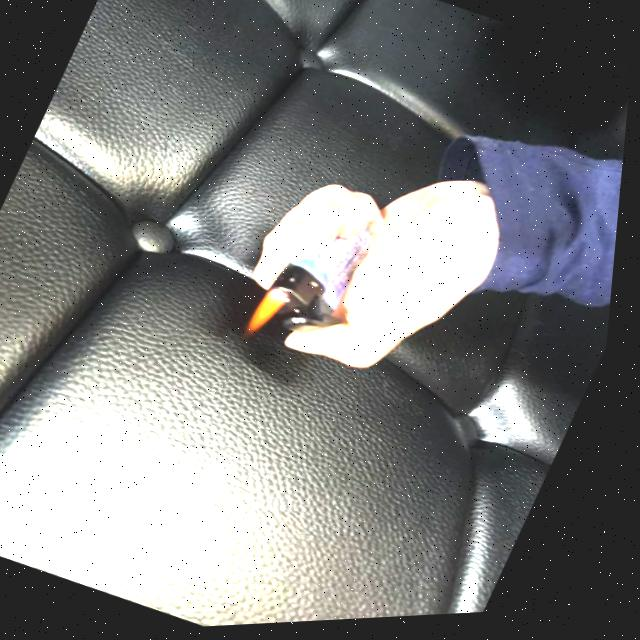Fire: (250, 288, 300, 344)
